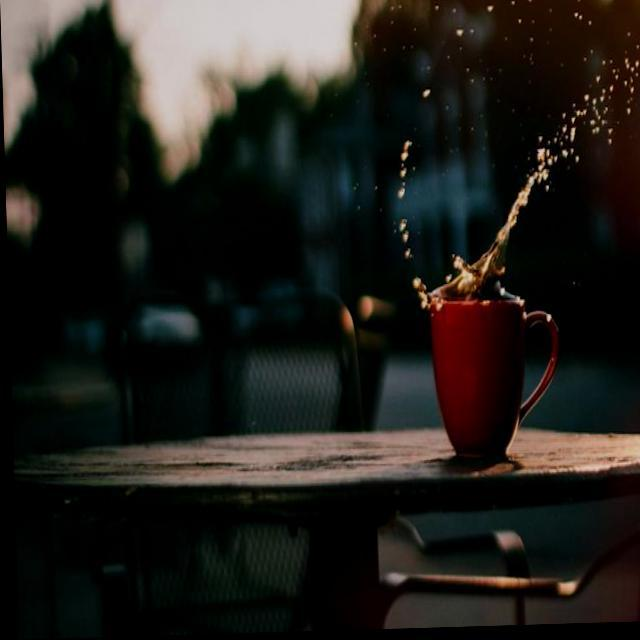cup: (399, 228, 579, 486)
